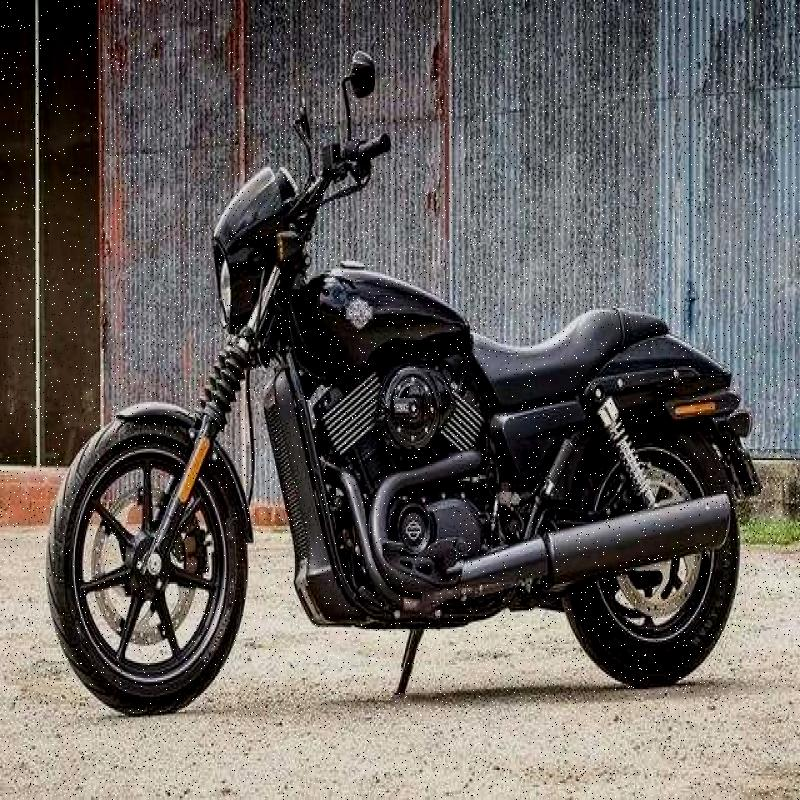bike: (45, 31, 752, 724)
